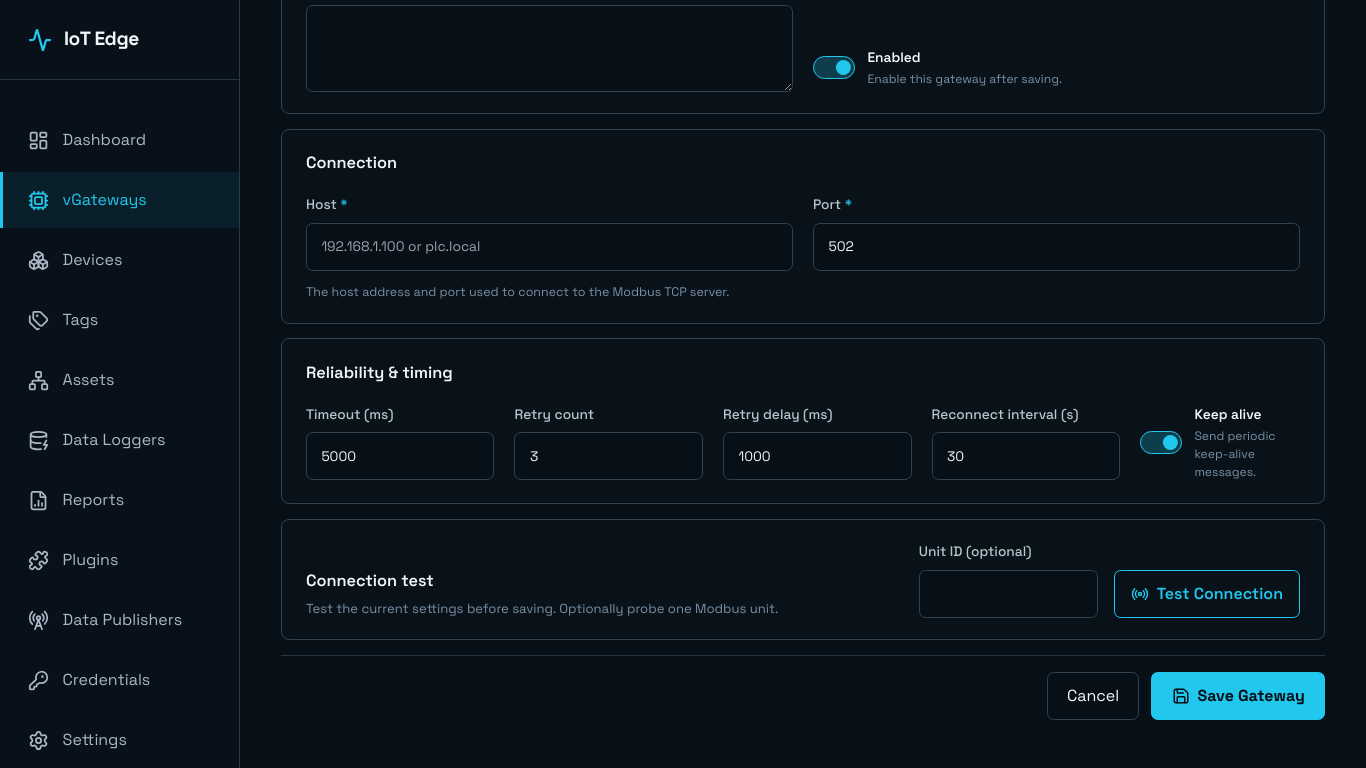
Test case: VGatewayFormPage › validates connection settings before an unsaved test
(page scrolled)
Click the button "Test Connection": x=1207, y=594 [1114,570,1300,618]
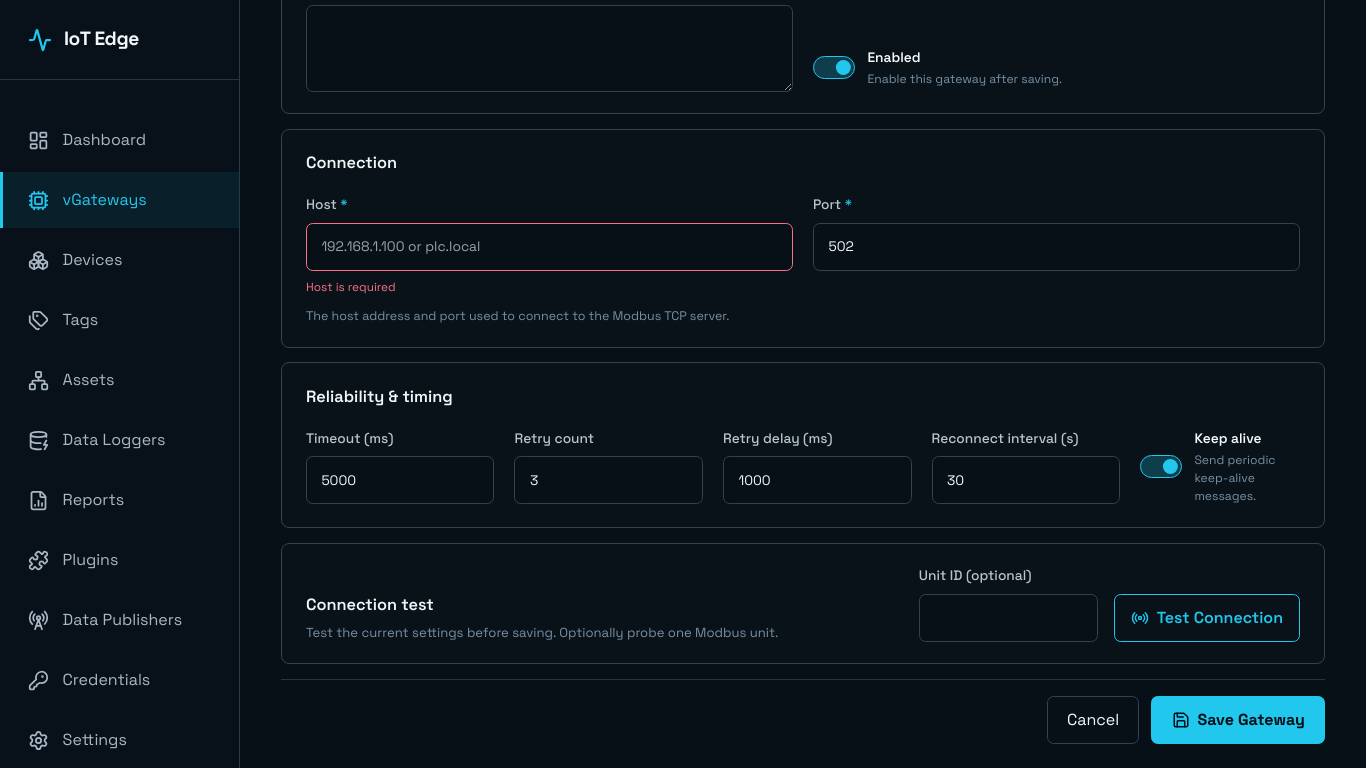
Now the text "Host is required" is shown, box [306,279,396,294]
